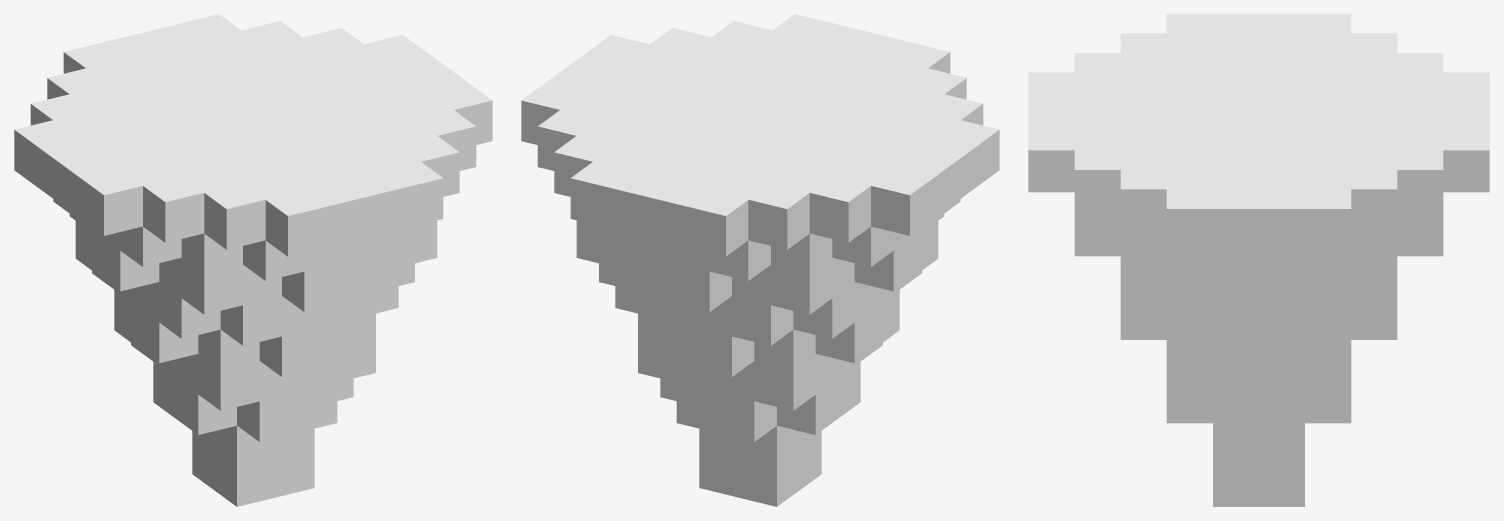
File: spike_down.obj
The picture shows the model from 3 angles, left to right: view 1: azimuth 30°, elevation 25°; view 2: azimuth 150°, elevation 25°; view 3: azimuth 270°, elevation 25°; orthographic projection. The views are drawn at different scales.
Size of the model in its own units: 1 by 0.9 by 1.
Materials: 1 (1 with a texture image).
